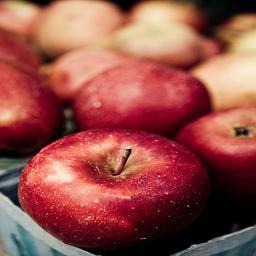apple: (17, 130, 208, 252), (178, 107, 256, 201)
